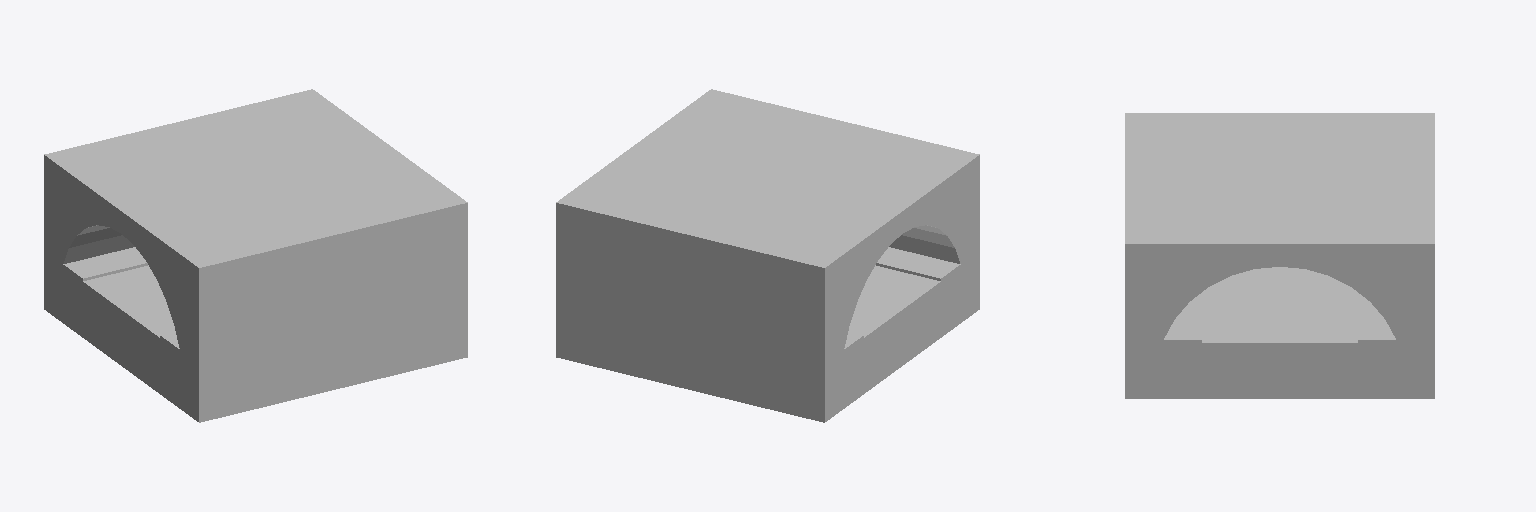
Rendered from tile253.obj.
The picture shows the model from 3 angles: view 1: azimuth 30°, elevation 25°; view 2: azimuth 150°, elevation 25°; view 3: azimuth 270°, elevation 25°; orthographic projection.
Visible parts, largest first — view 1: tile253; view 2: tile253; view 3: tile253.
Part boxes in pixels (bbox=[...]): tile253: bbox=[44, 89, 467, 422]; tile253: bbox=[556, 89, 979, 422]; tile253: bbox=[1125, 113, 1434, 398].
Size of the model in its own units: 1 by 0.55 by 1.